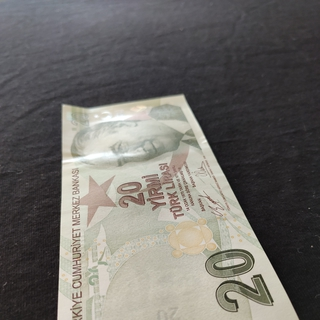20TLFront: (53, 94, 301, 320)
